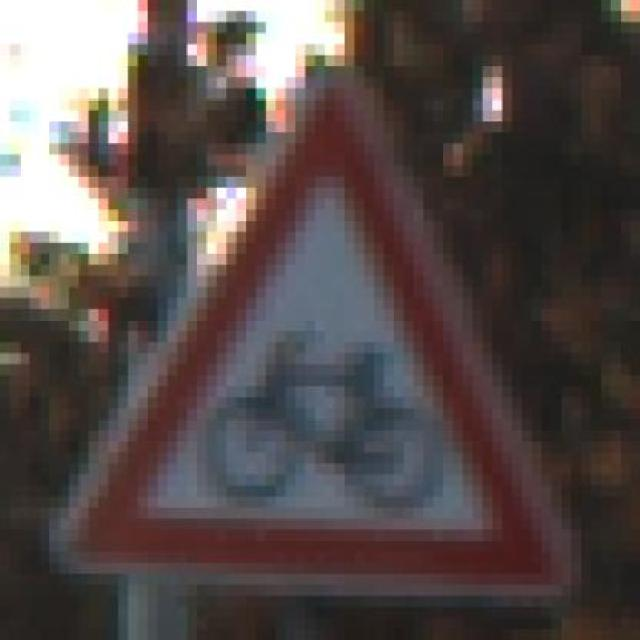CYCLE ROUTE AHEAD WARNING: (59, 44, 601, 618)
